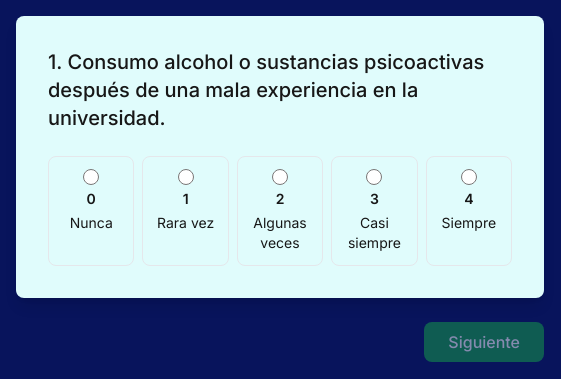
Test: TestForm › un 0 (nunca) cuenta como respuesta y deja avanzar
Step 1. Click the radio button labelled "0 Nunca" → (91,177), box [83,169,99,185]
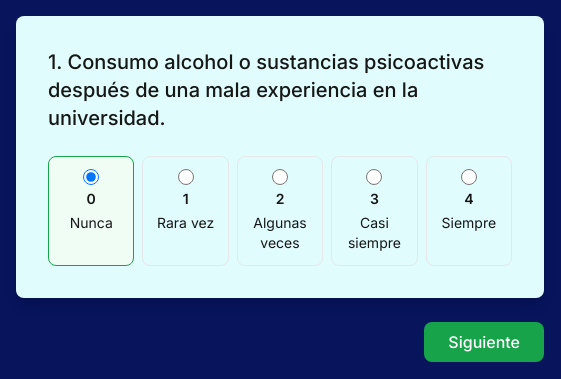
Now the button "Siguiente" is enabled, box [424,322,544,362]
